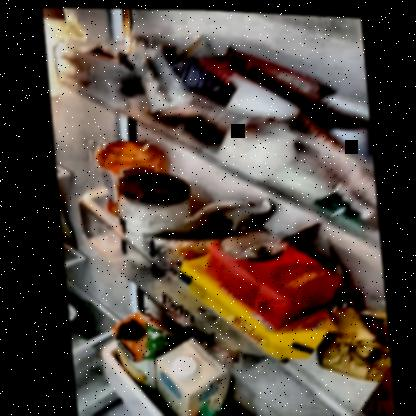milk: (149, 335, 222, 416)
